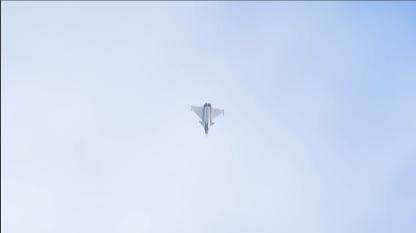RQ4: (189, 102, 223, 136)
